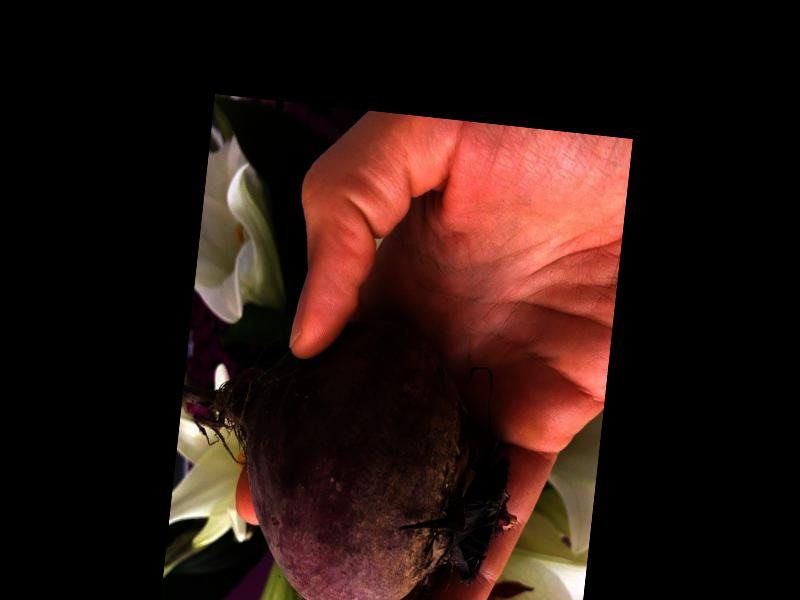Beet: (162, 300, 533, 600)
